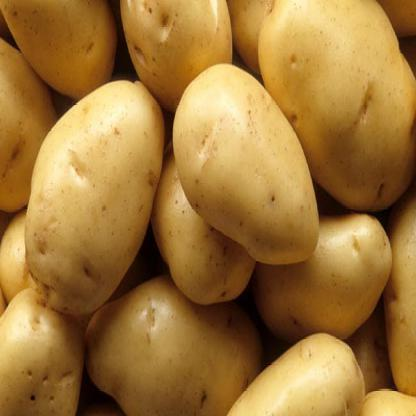potato: (252, 0, 415, 216), (24, 80, 165, 326), (173, 66, 322, 268), (81, 278, 260, 415), (258, 217, 390, 340), (118, 0, 232, 102), (224, 335, 366, 415)
